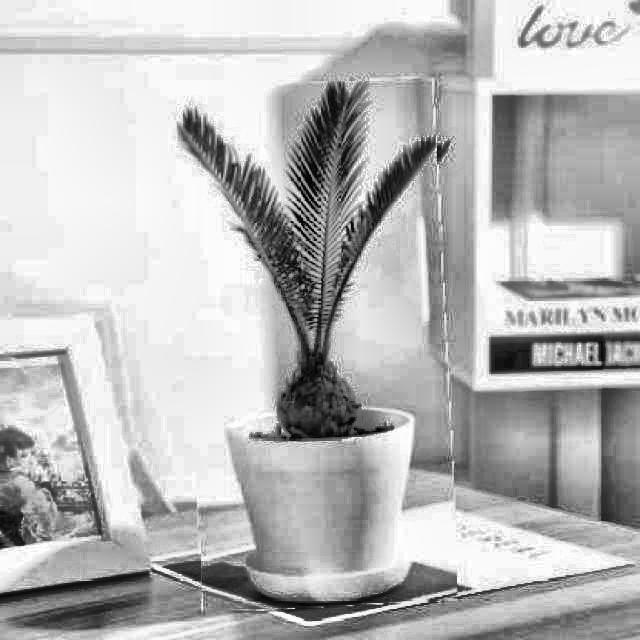plants: (182, 80, 453, 609)
